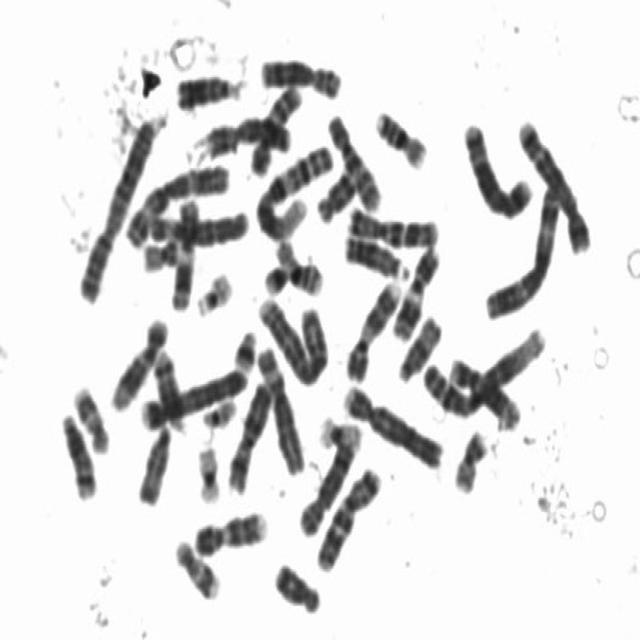A1: (418, 320, 548, 420), (252, 137, 336, 242)
A2: (73, 107, 164, 306), (253, 288, 331, 388)
A3: (480, 177, 564, 321), (123, 157, 233, 250)
B4: (338, 376, 445, 472), (136, 361, 250, 432)
B5: (514, 111, 594, 256), (460, 114, 536, 221)
C10: (323, 106, 384, 215), (246, 77, 305, 179)
C11: (388, 238, 442, 342), (166, 190, 202, 313)
C12: (107, 308, 171, 414), (444, 347, 523, 432)
C6: (252, 339, 308, 478), (140, 200, 253, 248)
C7: (312, 458, 384, 574), (342, 199, 442, 250)
C8: (294, 424, 362, 538), (256, 50, 344, 100)
C9: (341, 271, 403, 384), (190, 503, 270, 558)
D13: (340, 227, 410, 282), (172, 64, 246, 112)
D14: (56, 404, 100, 501), (148, 341, 188, 435)
D15: (392, 307, 444, 384), (132, 418, 174, 507)
E16: (370, 100, 430, 171), (270, 231, 326, 298)
E17: (170, 530, 223, 603), (68, 376, 113, 456)
E18: (269, 554, 324, 617), (312, 162, 360, 225)
F19: (192, 436, 224, 506), (314, 410, 364, 452)
F20: (449, 423, 490, 495), (138, 230, 183, 273)
G21: (230, 322, 259, 373), (259, 256, 291, 296)
G22: (191, 264, 235, 319), (197, 390, 239, 430)
X: (222, 372, 274, 495), (200, 108, 294, 160)
